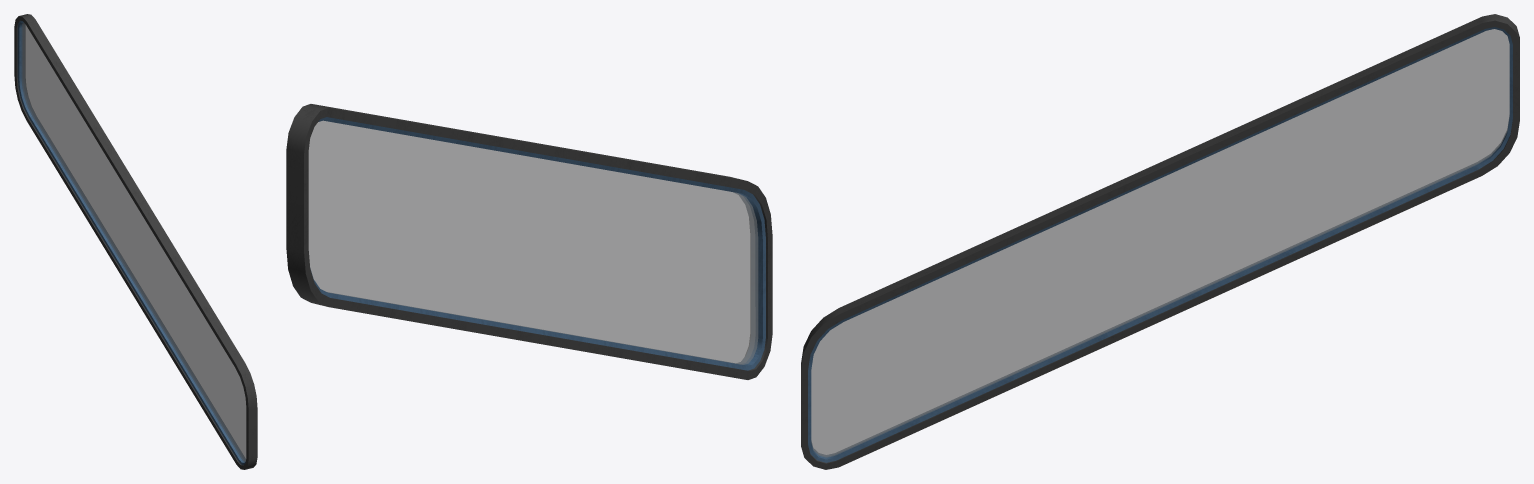
The model's file is Subway_Stairs_Barrier1_L1.fbx.
The picture shows the model from 3 angles, left to right: view 1: azimuth 30°, elevation 25°; view 2: azimuth 150°, elevation 25°; view 3: azimuth 270°, elevation 25°; orthographic projection. The views are drawn at different scales.
Visible parts, largest first — view 1: polySurface160; view 2: polySurface160; view 3: polySurface160.
Part boxes in pixels (<box>): polySurface160: <box>14,14,257,469</box>; polySurface160: <box>286,104,772,379</box>; polySurface160: <box>801,14,1519,469</box>.
Size of the model in its own units: 8.72 by 276 by 400.
